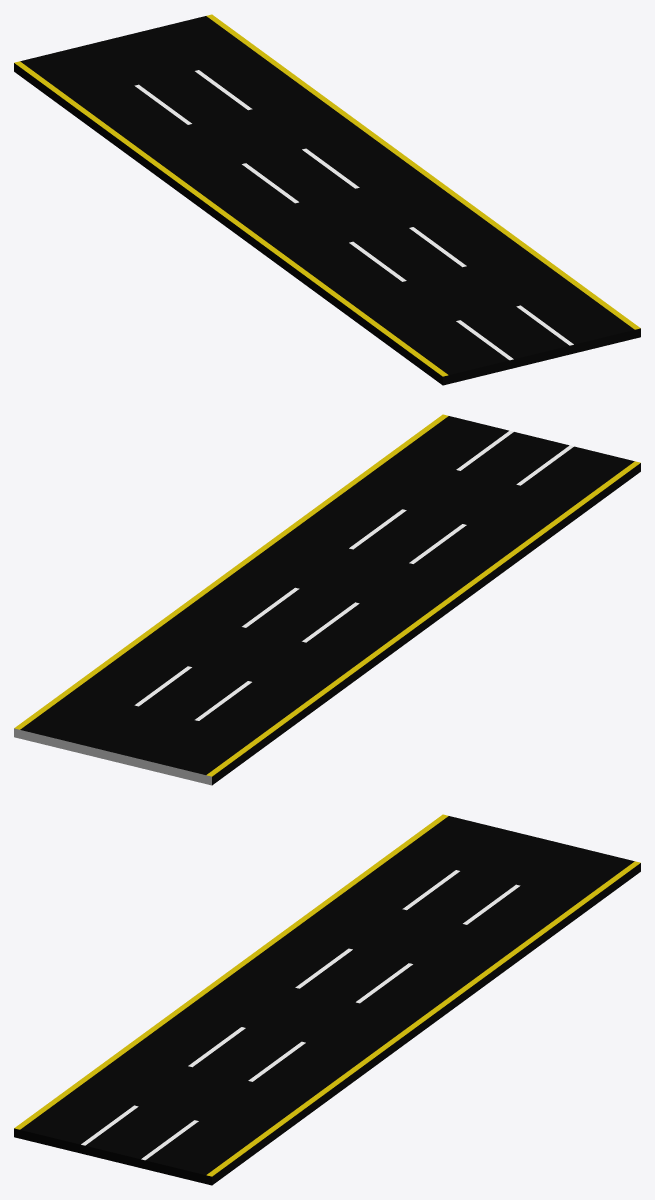
Rendered from Road3.fbx.
3 views of the same model, one above another, from view 1: azimuth 30°, elevation 25°; view 2: azimuth 150°, elevation 25°; view 3: azimuth 330°, elevation 25° (orthographic).
Visible parts, largest first — view 1: Cube; view 2: Cube; view 3: Cube.
Part boxes in pixels (bbox=[...]): Cube: bbox=[14, 14, 640, 385]; Cube: bbox=[14, 414, 640, 785]; Cube: bbox=[14, 814, 640, 1185].
Bounding box in the file's own units: 800 × 34.2 × 3000.
